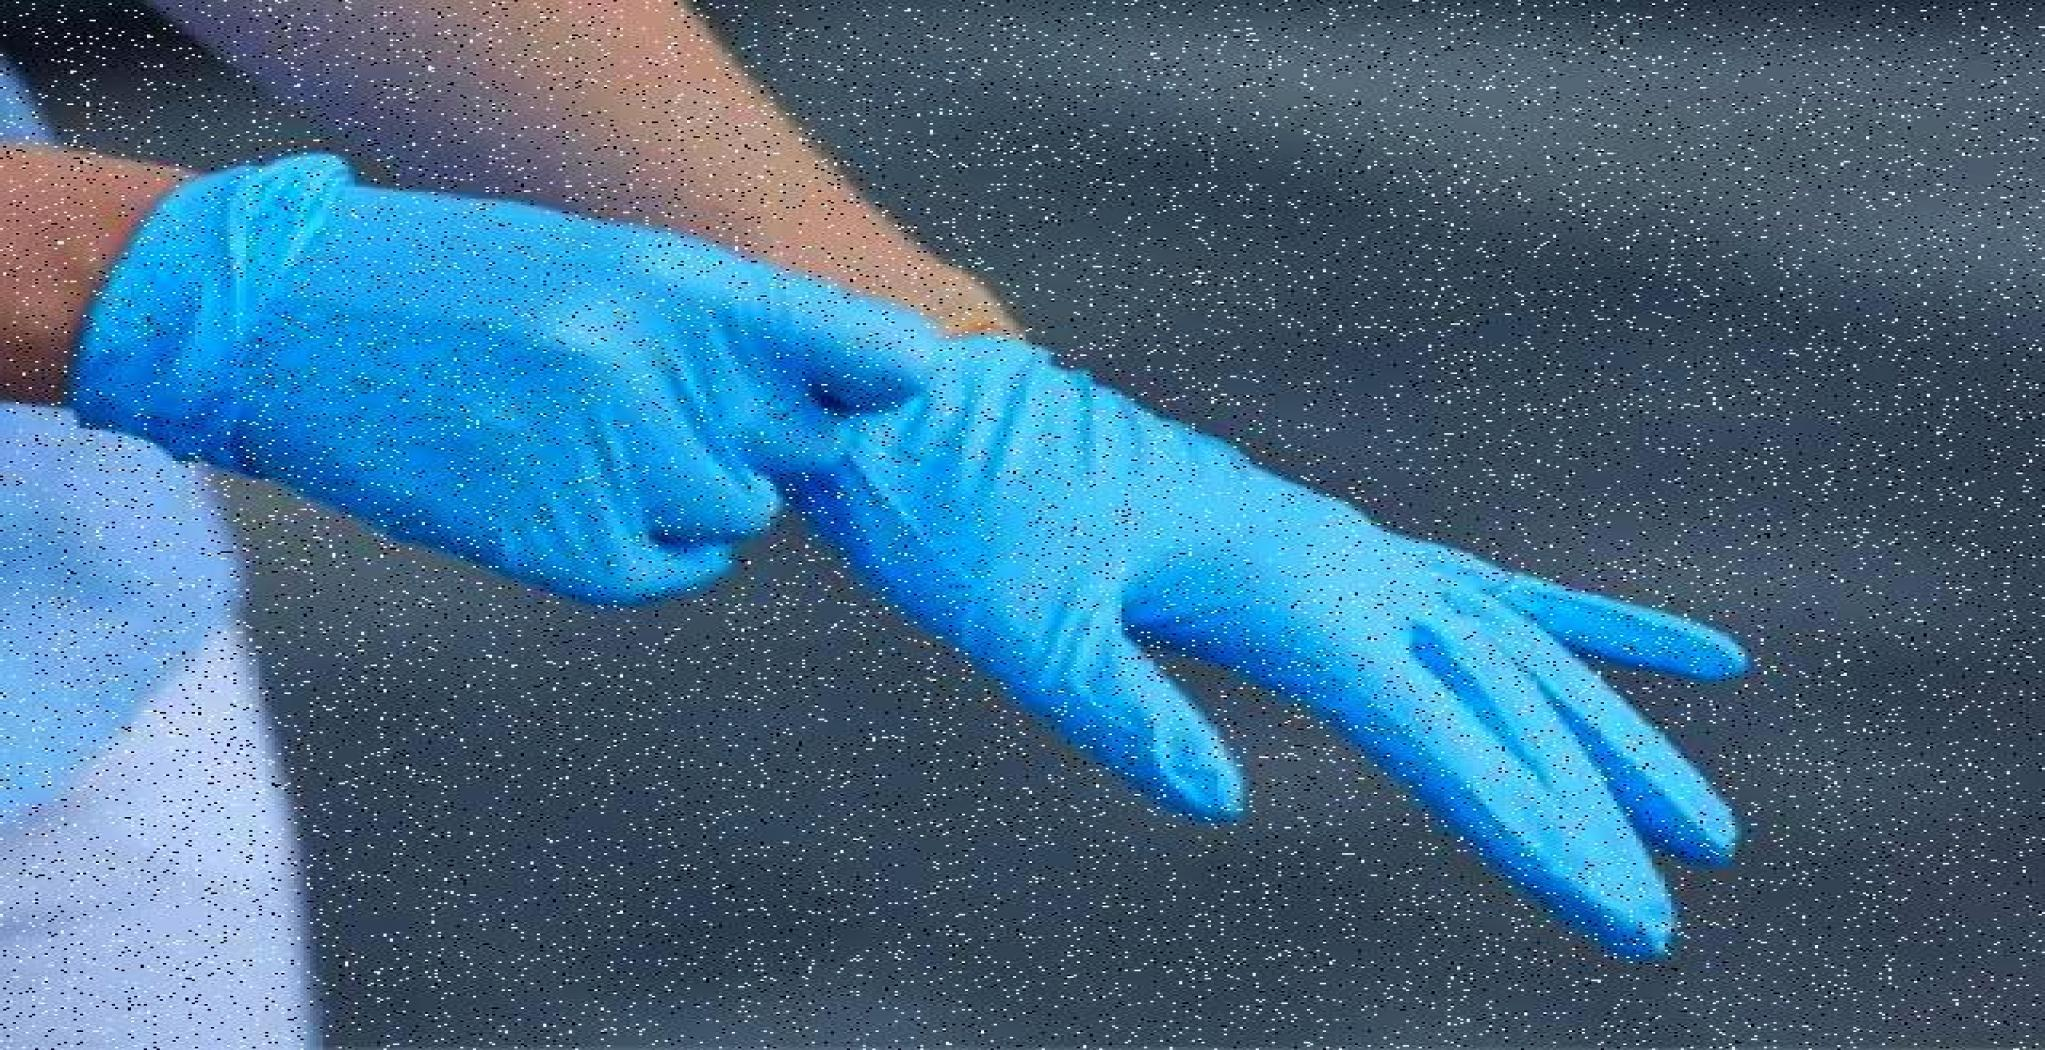gloved: (916, 331, 1773, 960), (135, 137, 908, 603)
